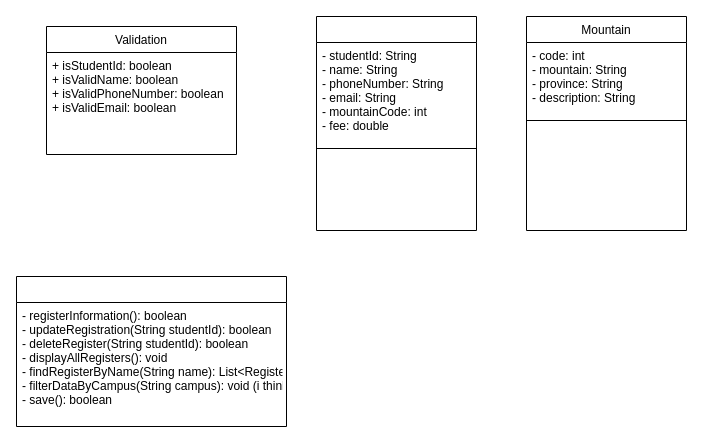
The diagram is 703 pixels wide and 443 high, and some of its shapes have lost their labels. Each missing label, with the box of its shape:
Registration: (316, 16, 476, 230)
Service: (16, 276, 286, 426)
